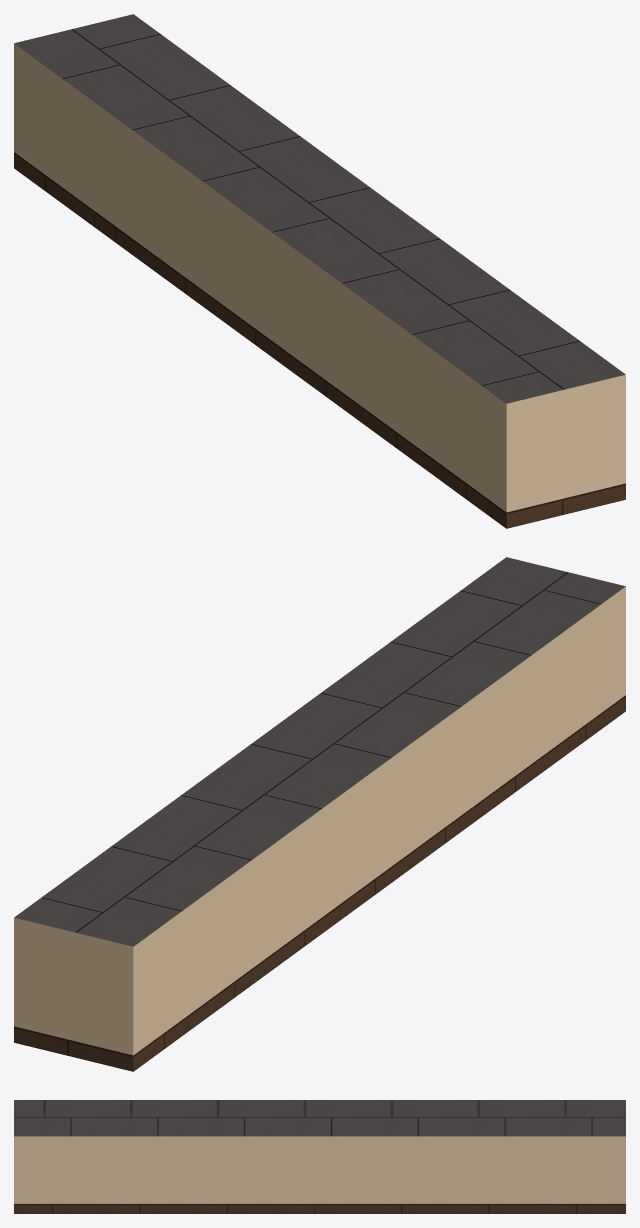
Rendered from LobbySign.fbx.
3 renders of one model, top to bottom at view 1: azimuth 30°, elevation 25°; view 2: azimuth 150°, elevation 25°; view 3: azimuth 270°, elevation 25°, orthographic. The views are drawn at different scales.
Visible parts, largest first — view 1: Room; view 2: Room; view 3: Room.
Boxes of the visible parts, bbox=[...] form: Room: bbox=[14, 14, 625, 528]; Room: bbox=[14, 557, 625, 1071]; Room: bbox=[14, 1100, 625, 1213].
Bounding box in the file's own units: 2720 × 2749 × 19420.
